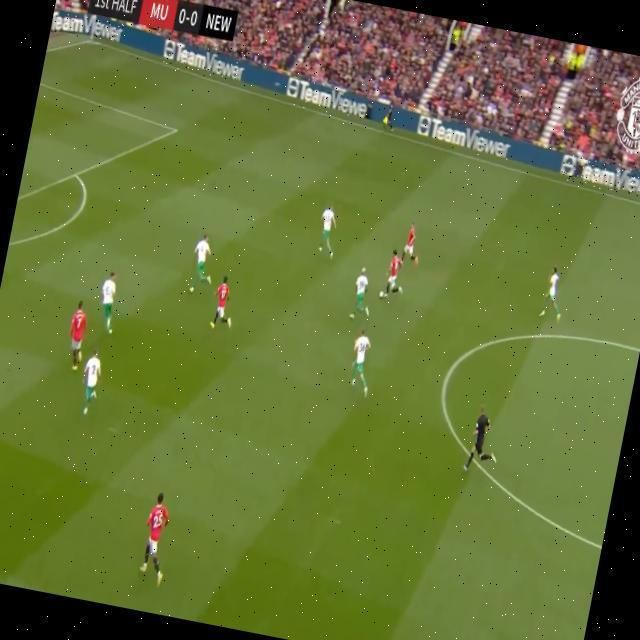TeamViewer: (414, 116, 513, 162), (285, 76, 376, 122), (162, 38, 248, 84), (559, 154, 640, 202), (51, 10, 124, 45)
